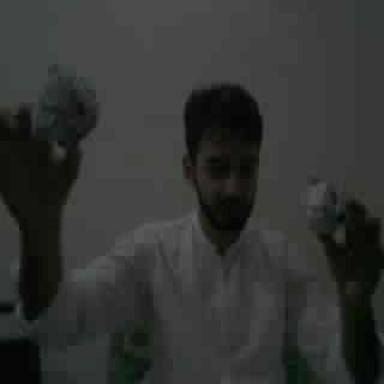paper: (32, 66, 98, 149), (304, 179, 347, 240)
